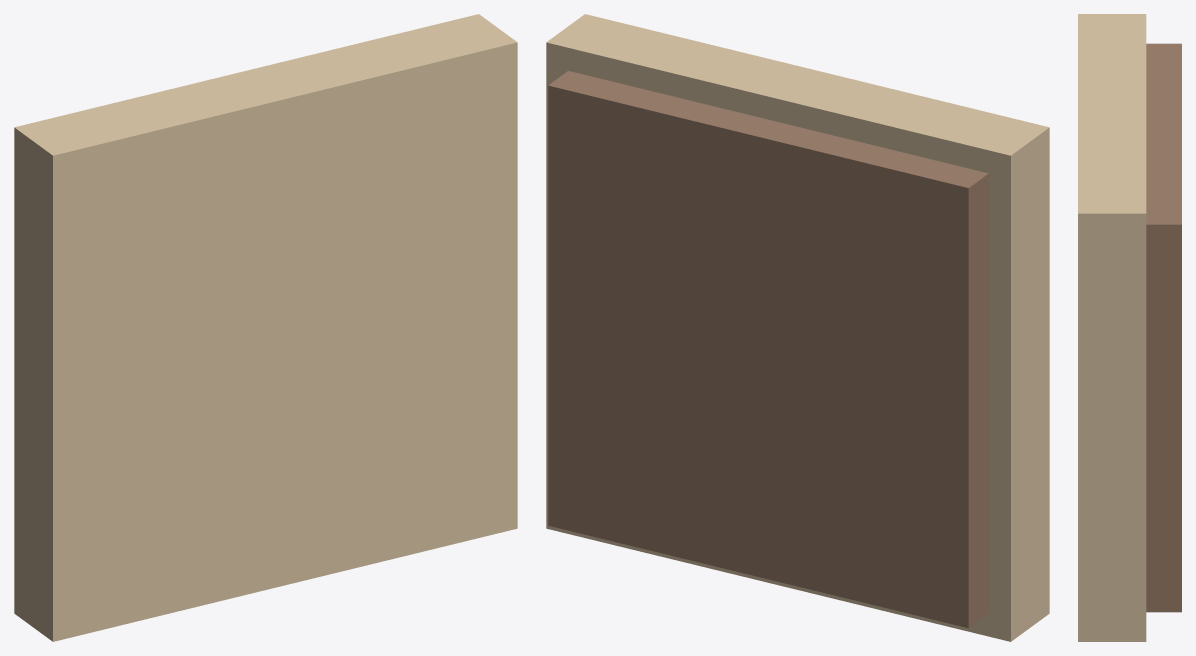
The model's file is plot_farm_wet_no_outline.glb.
3 views of the same model, side by side, from view 1: azimuth 30°, elevation 25°; view 2: azimuth 150°, elevation 25°; view 3: azimuth 270°, elevation 25° (orthographic). The views are drawn at different scales.
Parts seen in each view (by area): view 1: plot_farm_wet_base_no_outline; view 2: plot_farm_wet_solo_no_outline, plot_farm_wet_base_no_outline; view 3: plot_farm_wet_base_no_outline, plot_farm_wet_solo_no_outline.
Boxes of the visible parts, x1,y1,x2,y2 form: plot_farm_wet_base_no_outline: (14, 14, 517, 641); plot_farm_wet_solo_no_outline: (548, 71, 988, 628); plot_farm_wet_base_no_outline: (546, 14, 1049, 641); plot_farm_wet_base_no_outline: (1078, 14, 1146, 641); plot_farm_wet_solo_no_outline: (1146, 43, 1181, 612).
Size of the model in its own units: 1.9 by 1.9 by 0.4175.
